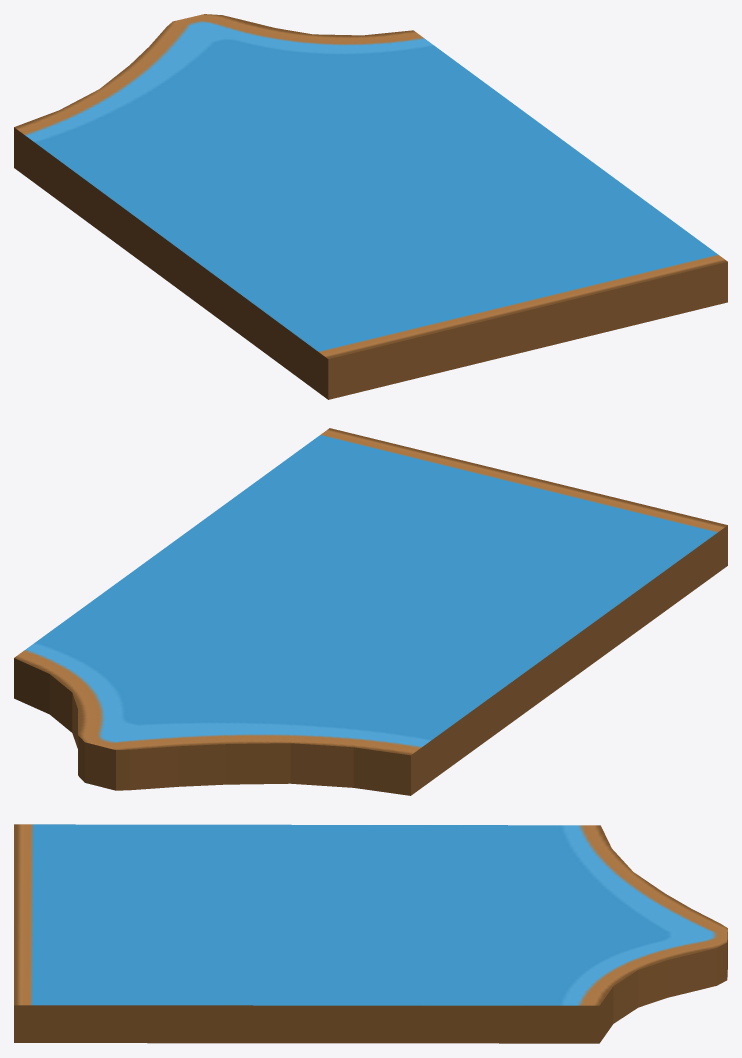
The model's file is water.fbx.
The picture shows the model from 3 angles, top to bottom: view 1: azimuth 30°, elevation 25°; view 2: azimuth 150°, elevation 25°; view 3: azimuth 270°, elevation 25°; orthographic projection. The views are drawn at different scales.
Parts seen in each view (by area): view 1: Cube; view 2: Cube; view 3: Cube.
Boxes of the visible parts, x1,y1,x2,y2 form: Cube: (14, 14, 727, 399); Cube: (14, 428, 727, 795); Cube: (14, 824, 727, 1043).
Size of the model in its own units: 306 by 29.69 by 509.
